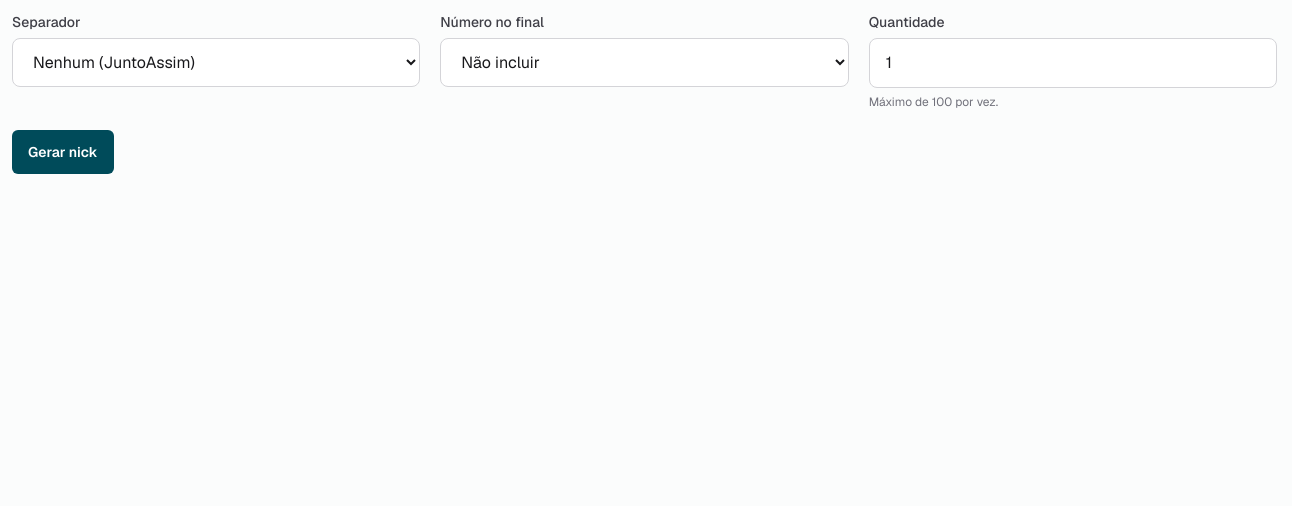
Test: NicknameGeneratorTool › gera um lote e permite copiar todos
The width and height of the screenshot is (1292, 506).
Type "5" into the field labelled "Quantidade" at (1073, 63), box x1=869 y1=38 x2=1277 y2=88
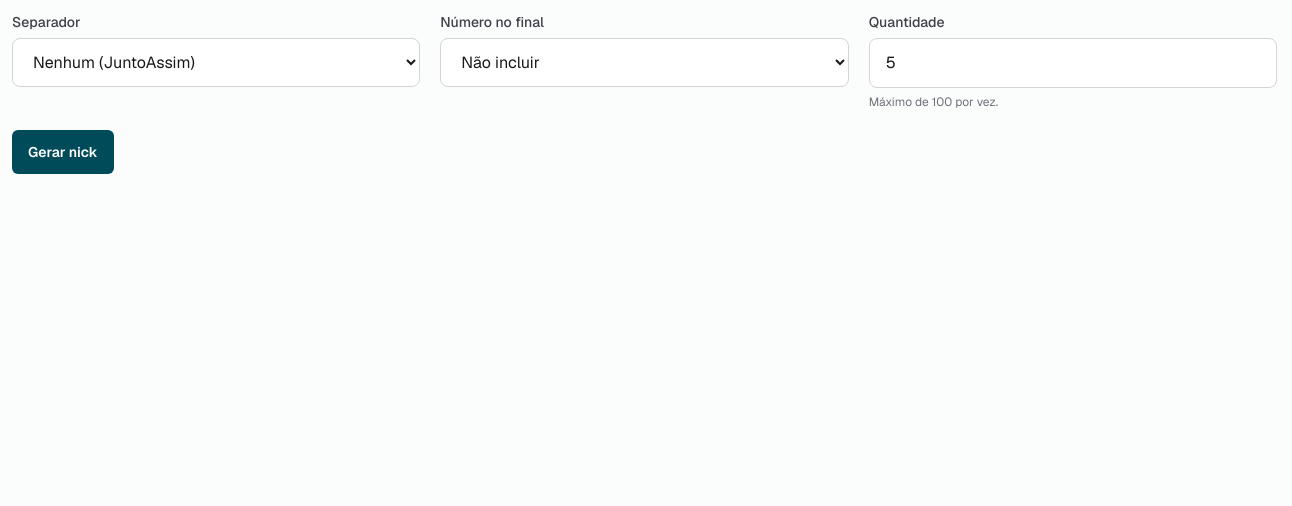
Click the button "Gerar nick" at (63, 152), box x1=12 y1=130 x2=114 y2=174
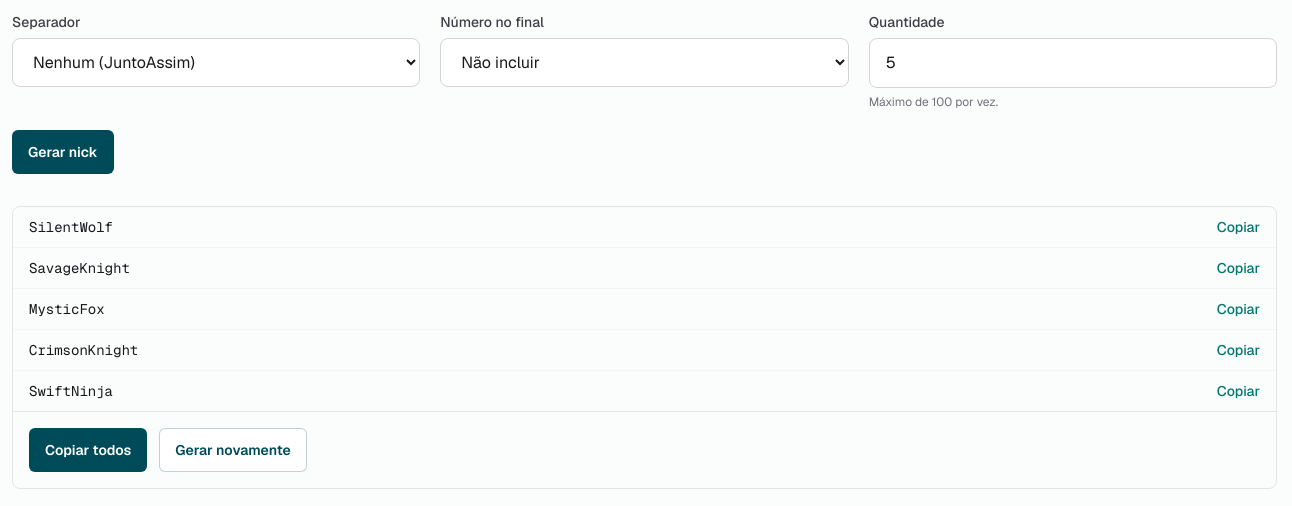
Expected: the number of list items is 5, x1=13 y1=207 x2=1276 y2=248; x1=13 y1=248 x2=1276 y2=289; x1=13 y1=289 x2=1276 y2=330; x1=13 y1=330 x2=1276 y2=371; x1=29 y1=381 x2=1260 y2=401
Click the button "Copiar todos" at (88, 450), box x1=29 y1=428 x2=147 y2=472
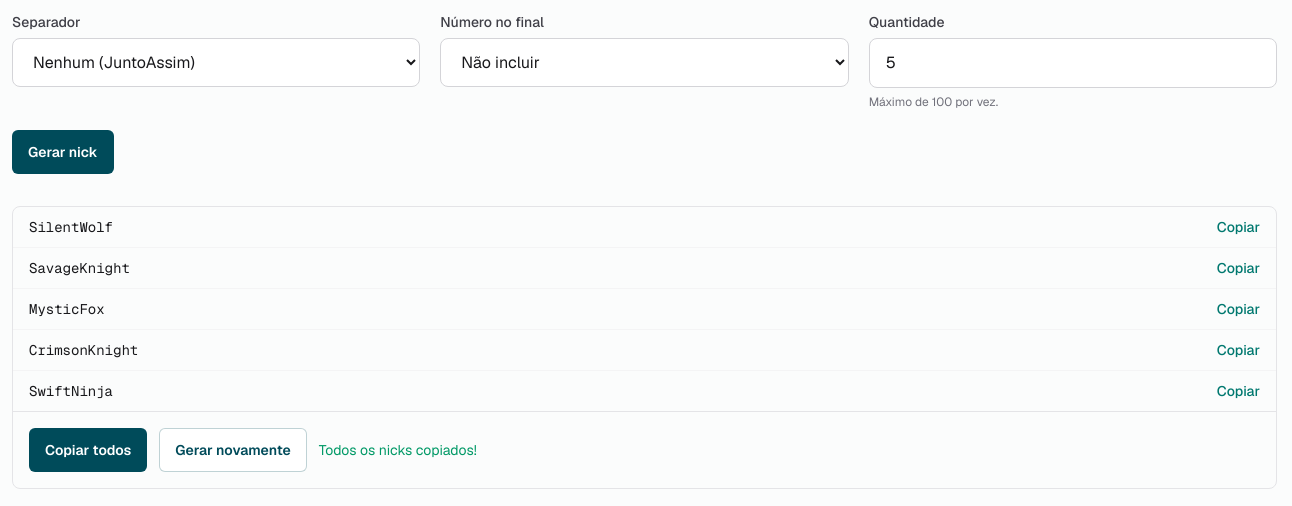
Expected: the message reads "Todos os nicks copiados!", x1=319 y1=441 x2=477 y2=459
